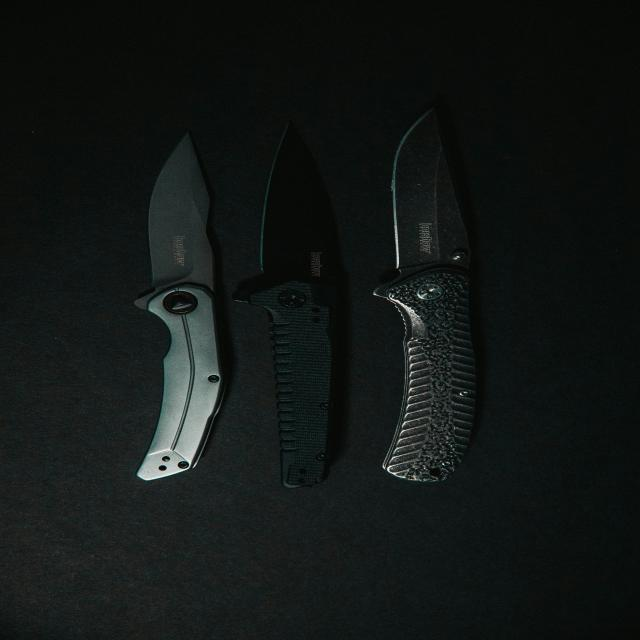knife: (371, 107, 477, 487), (134, 131, 224, 483)
